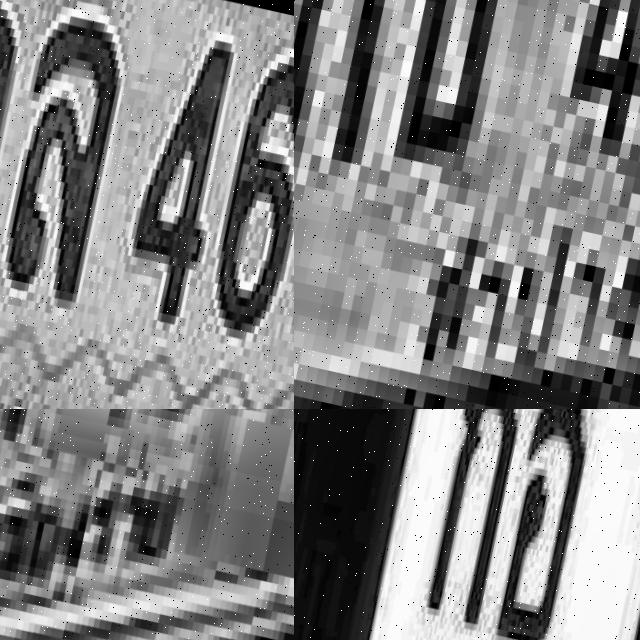license-plate: (294, 0, 640, 409), (0, 0, 294, 409), (294, 409, 640, 640), (0, 409, 294, 640)
